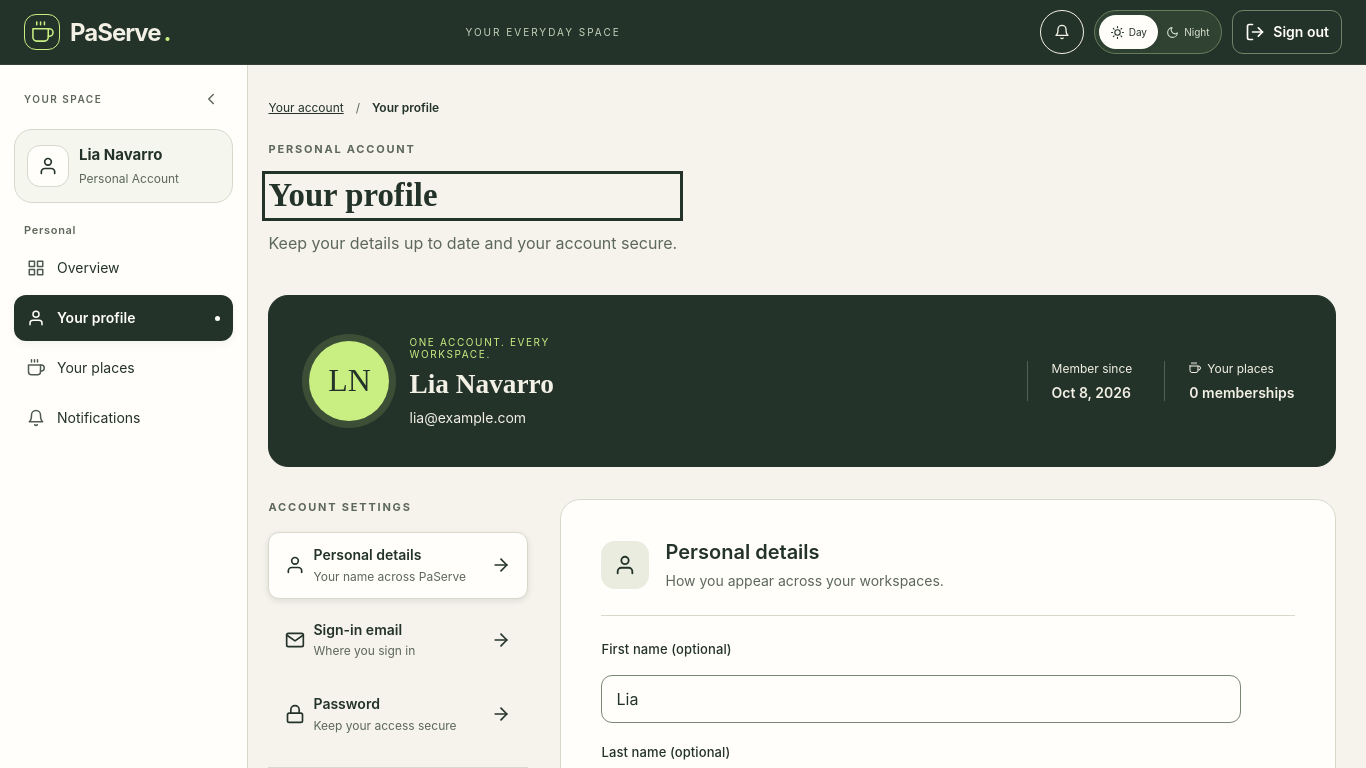
Test: saves personal details with bearer authentication and updates account identity
The image size is (1366, 768).
Replace the text in the field labelled "First name" with "Maria" at {"x": 922, "y": 699}, box [602, 675, 1242, 723]
(page scrolled)
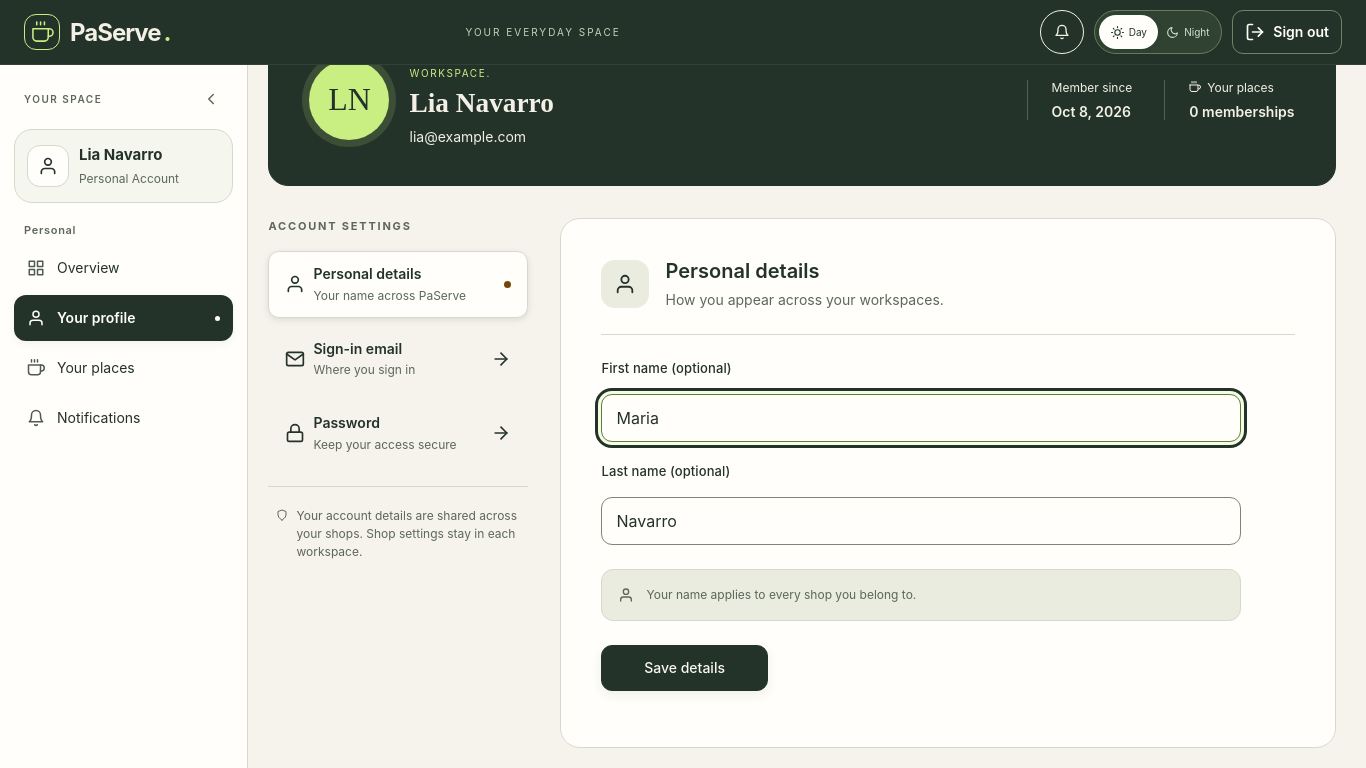
Click the button "Save details" at {"x": 685, "y": 668}, box [602, 645, 768, 690]
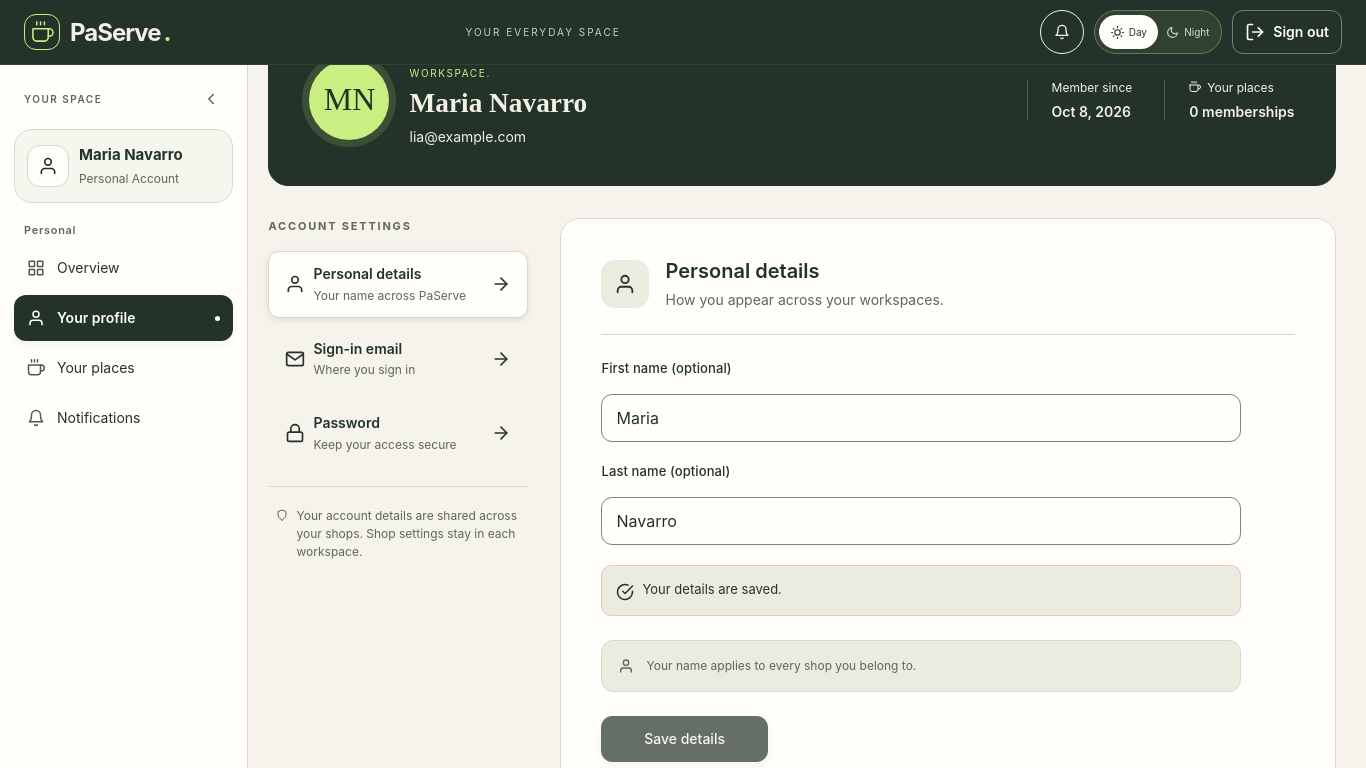
Check: the text "Maria Navarro" is shown 2 times, box [79, 145, 183, 164]; [410, 87, 607, 120]
Check: the text "Your details are saved." is shown, box [642, 580, 782, 599]
